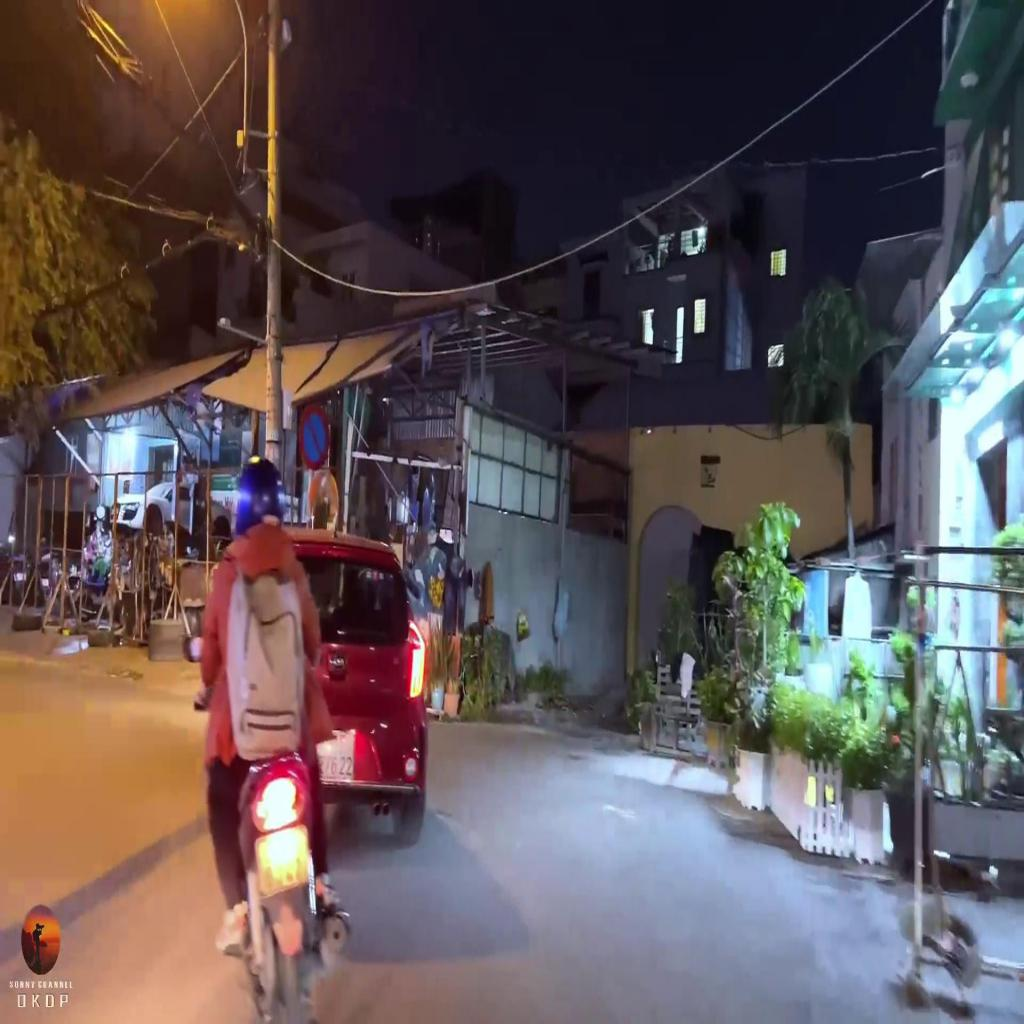cam_do_xe: (296, 403, 334, 471)
